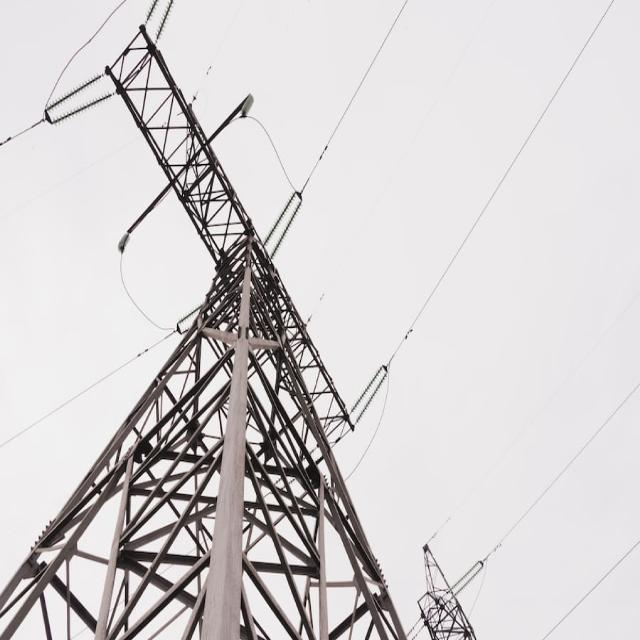transmission tower: (51, 12, 431, 640)
